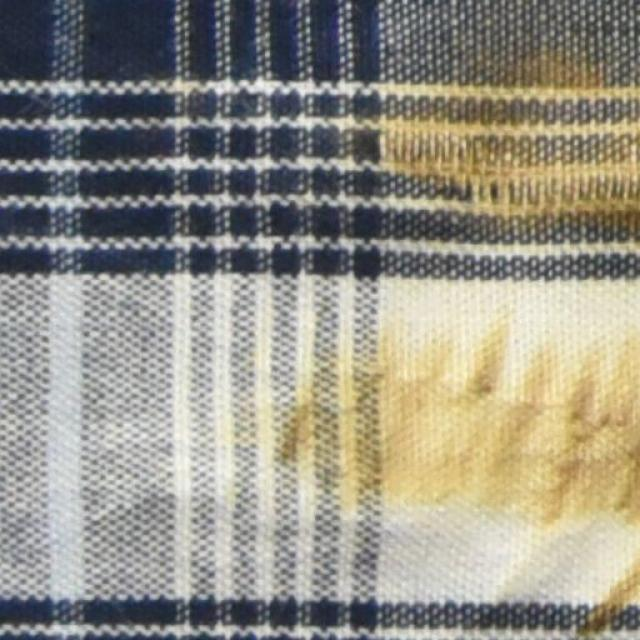Stain: (286, 351, 639, 527), (357, 36, 639, 246), (577, 566, 638, 638)
